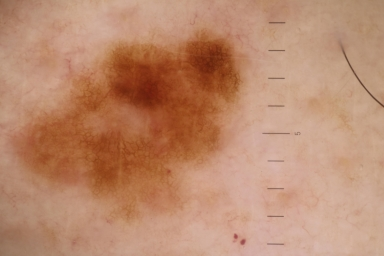nevus: (11, 38, 237, 208)
